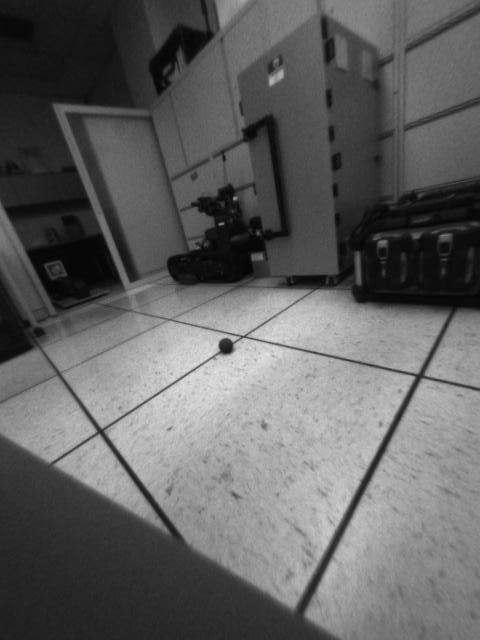dogtoy: (213, 330, 238, 359)
